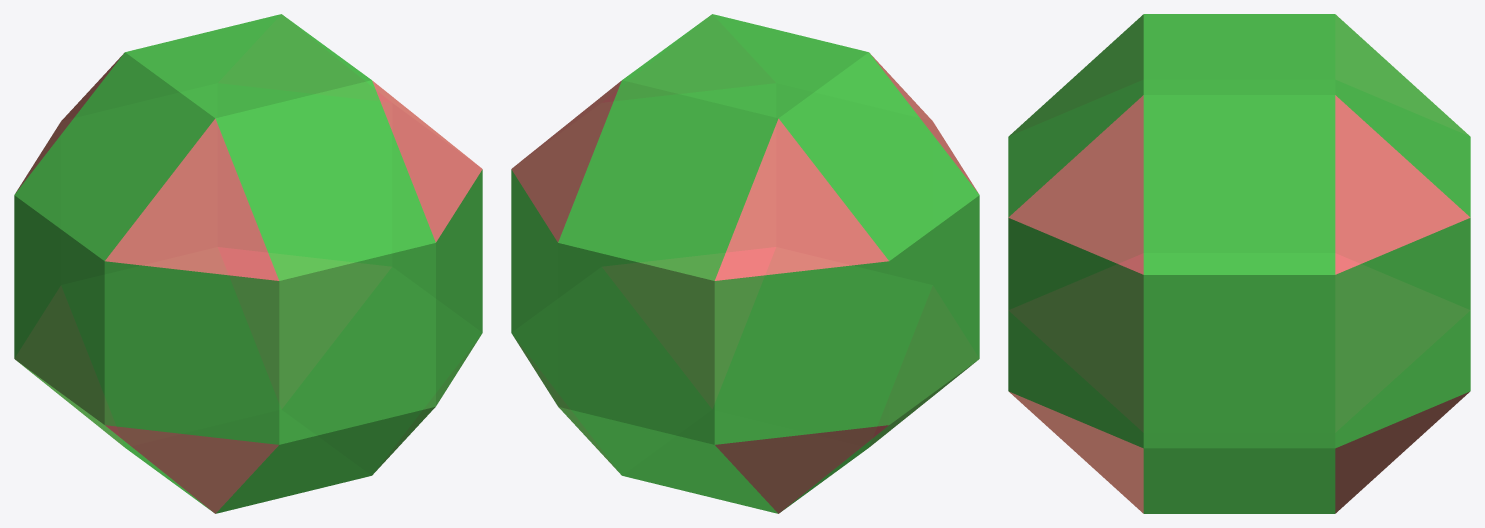
The model's file is Rhombicuboctahedron.obj.
3 views of the same model, side by side, from view 1: azimuth 30°, elevation 25°; view 2: azimuth 150°, elevation 25°; view 3: azimuth 270°, elevation 25° (orthographic). The views are drawn at different scales.
Size of the model in its own units: 2.41 by 2.41 by 2.41.
